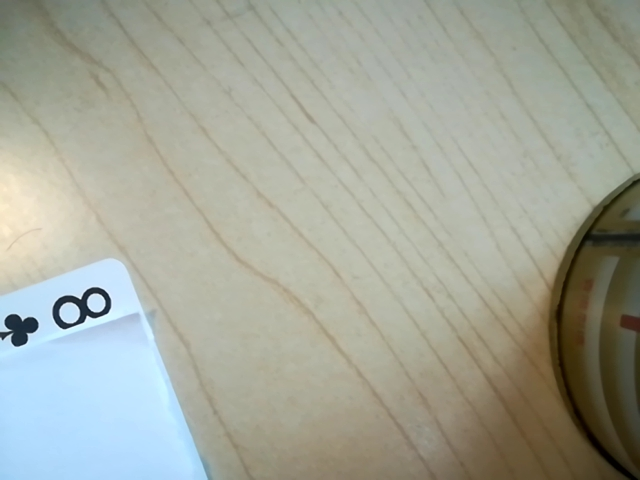mh 8: (7, 278, 125, 352)
